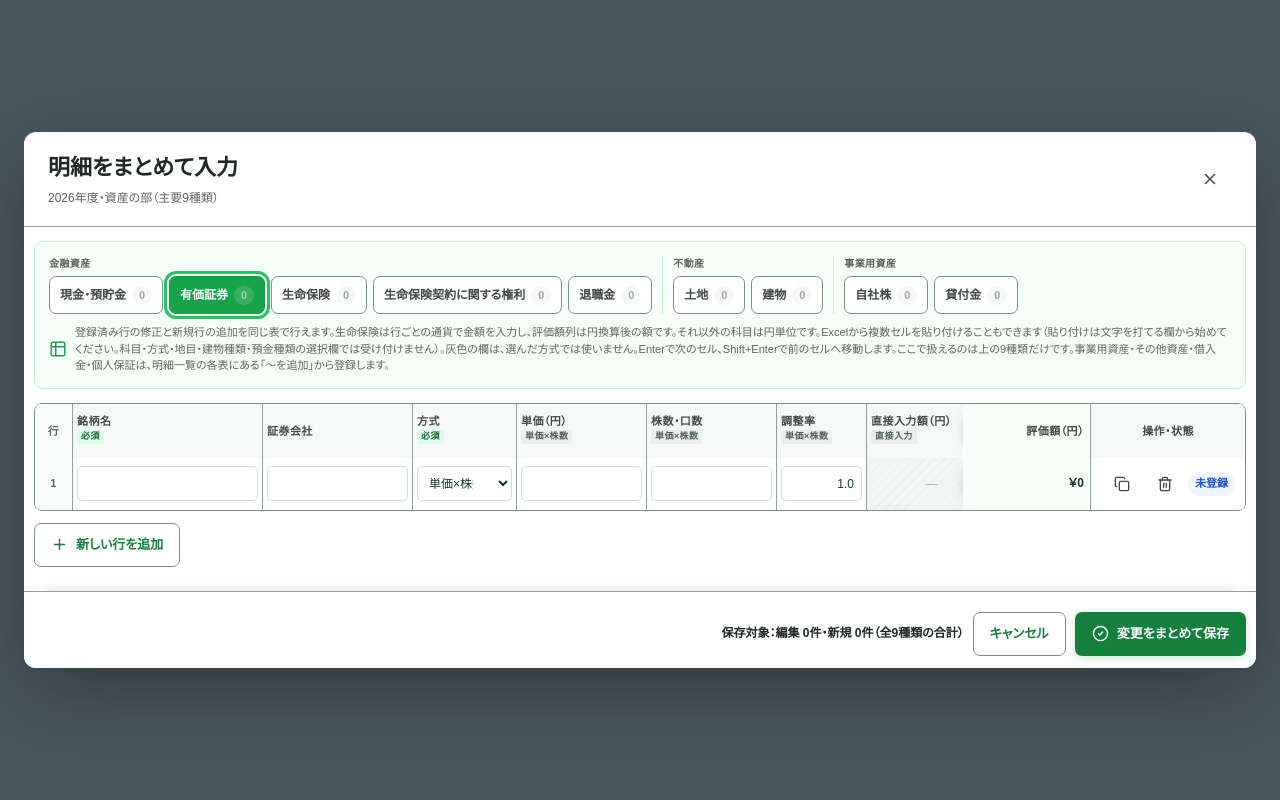
Test: 一括入力の複数受取人 › 未登録のレートでは外貨保険を保存しない
Click the tab "生命保険 0" at x=319, y=295, box [271,276,367,314]
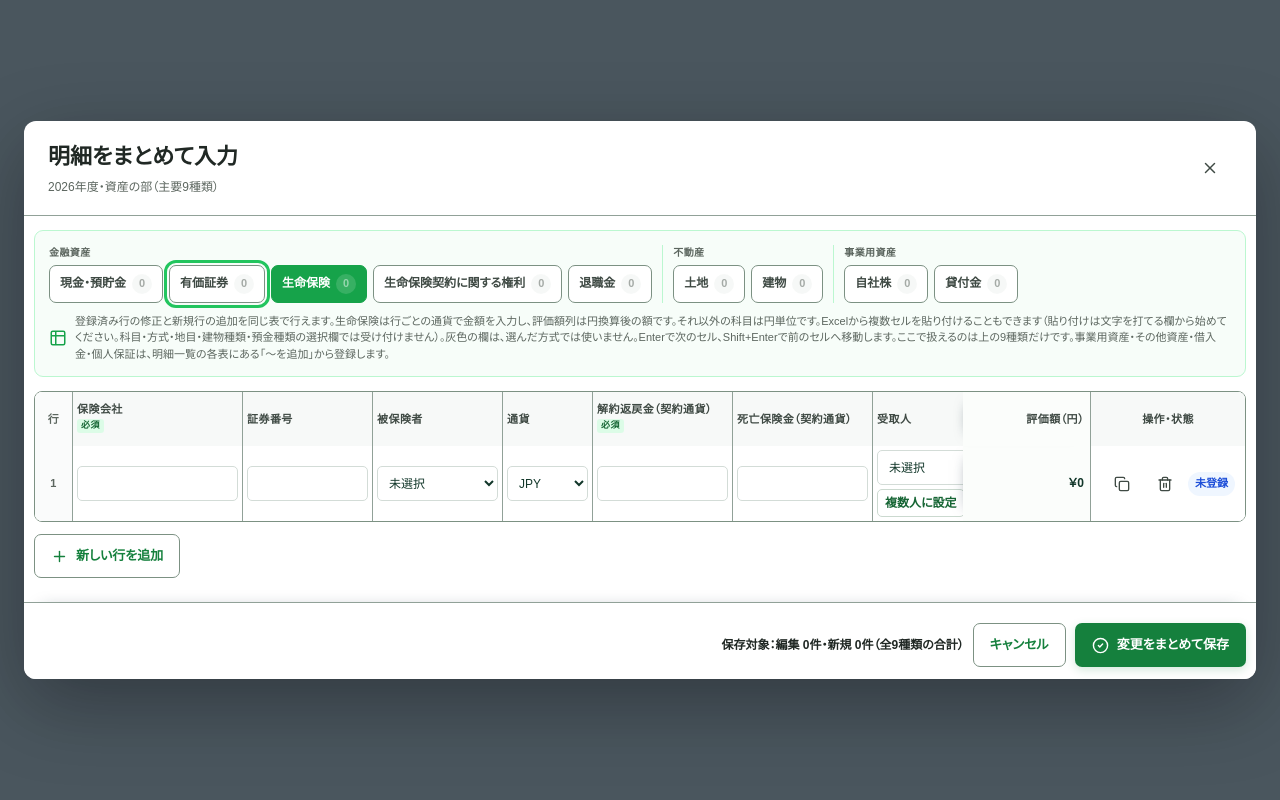
Type "外貨生命" into the field named "1行目 保険会社" at x=158, y=484, box [77,466,238,501]
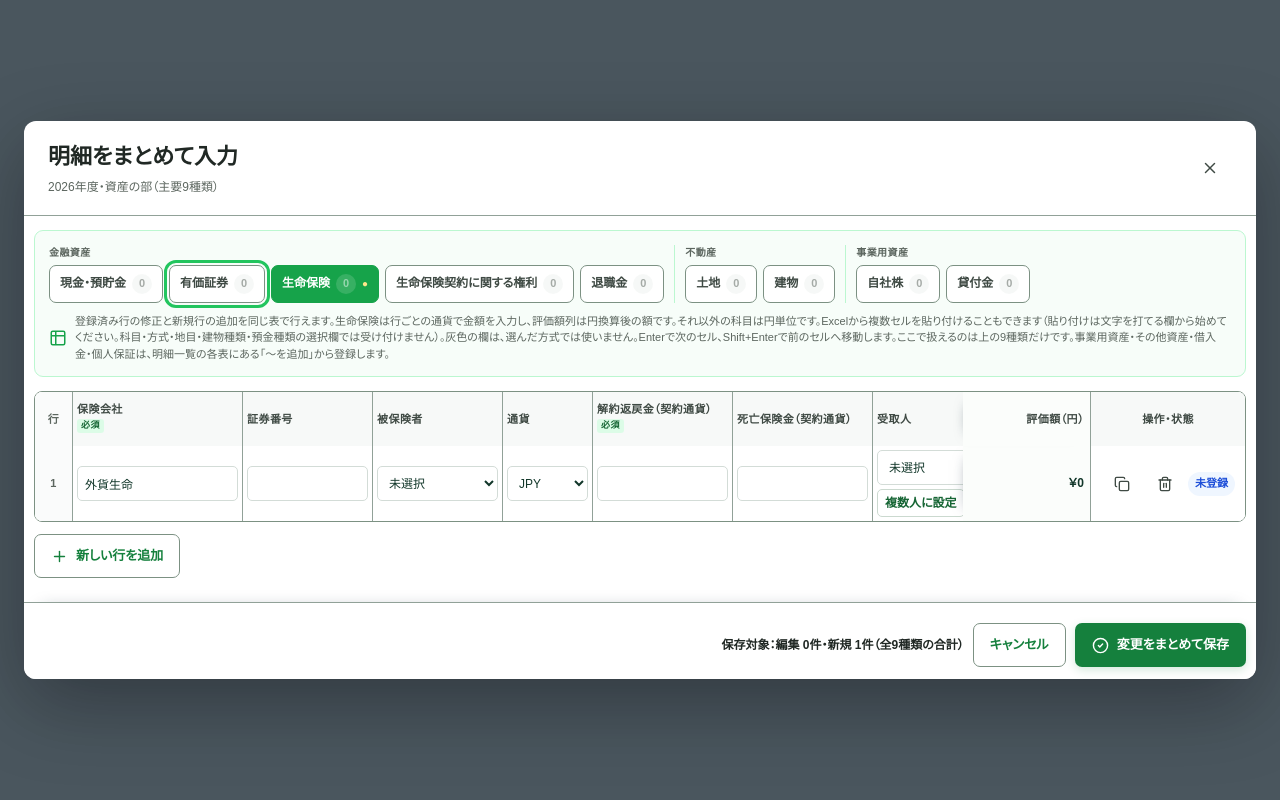
Select "USD" in the dropdown named "1行目 通貨" at x=548, y=484, box [507,466,588,501]
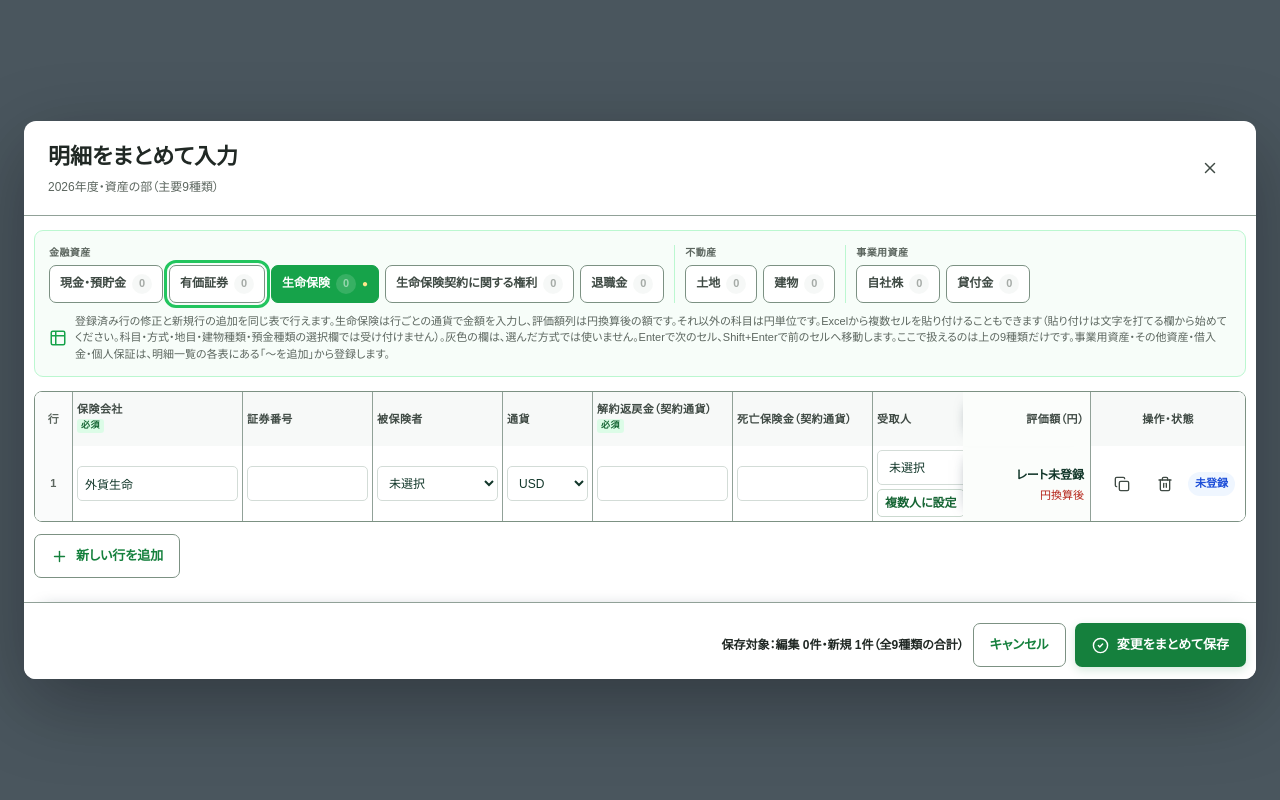
Type "100" into the field named "1行目 解約返戻金（USD）" at x=662, y=484, box [597,466,728,501]
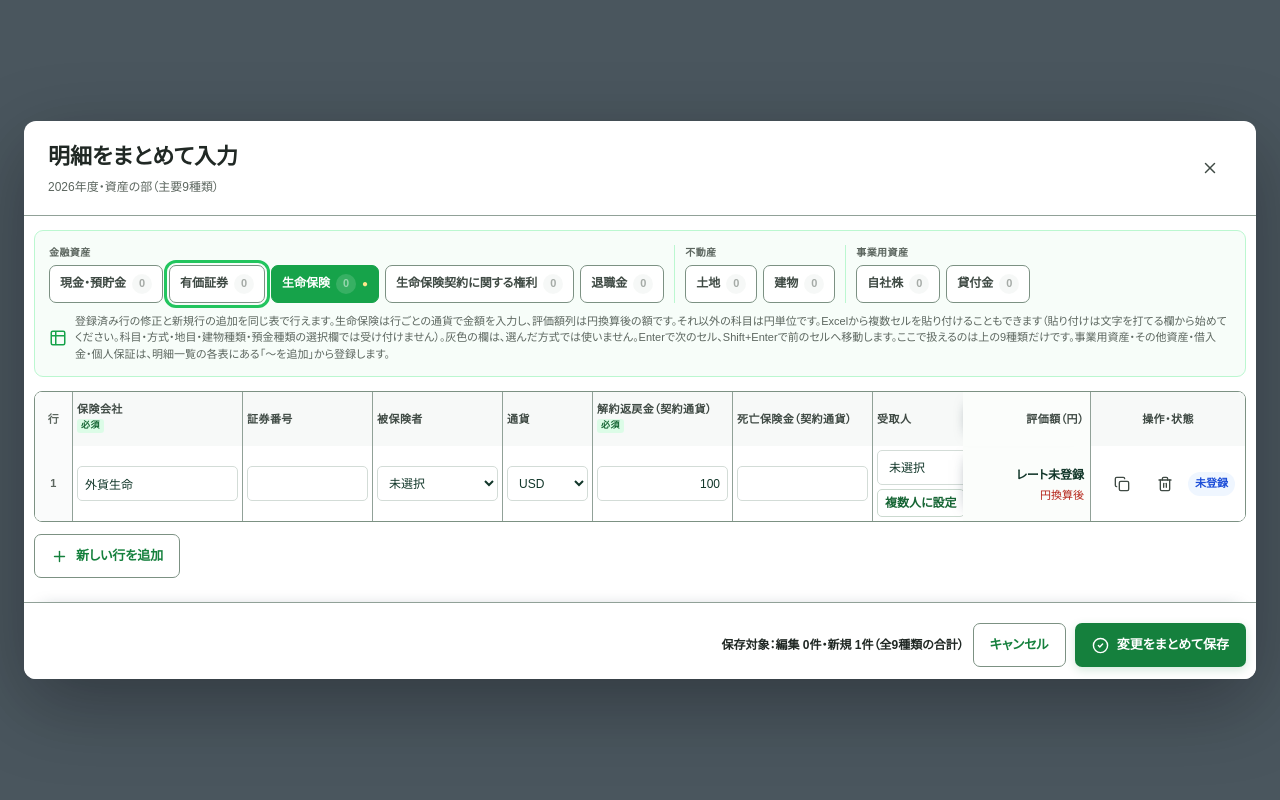
Click the button "変更をまとめて保存" at x=1160, y=645, box [1075,623,1246,667]
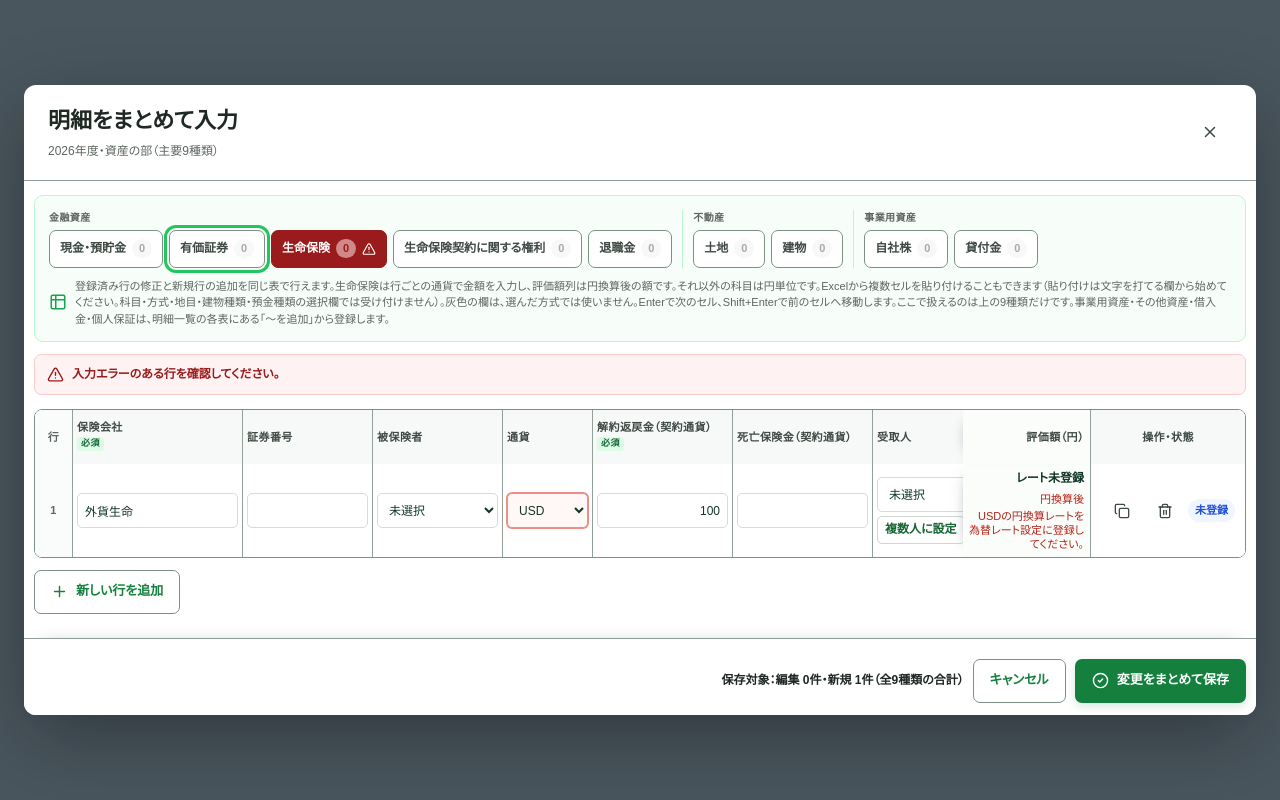
expect the text "USDの円換算レートを為替レート設定に登録" is shown: met, box [969,510,1084,550]
